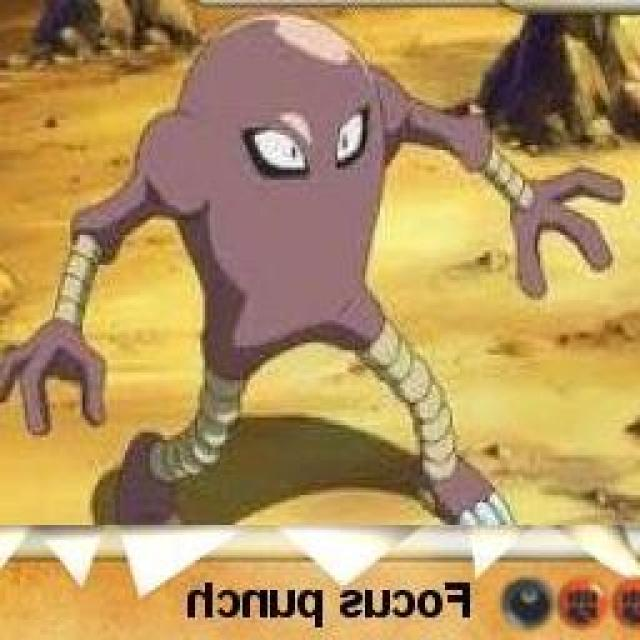Hitmonlee: (60, 17, 506, 523)
